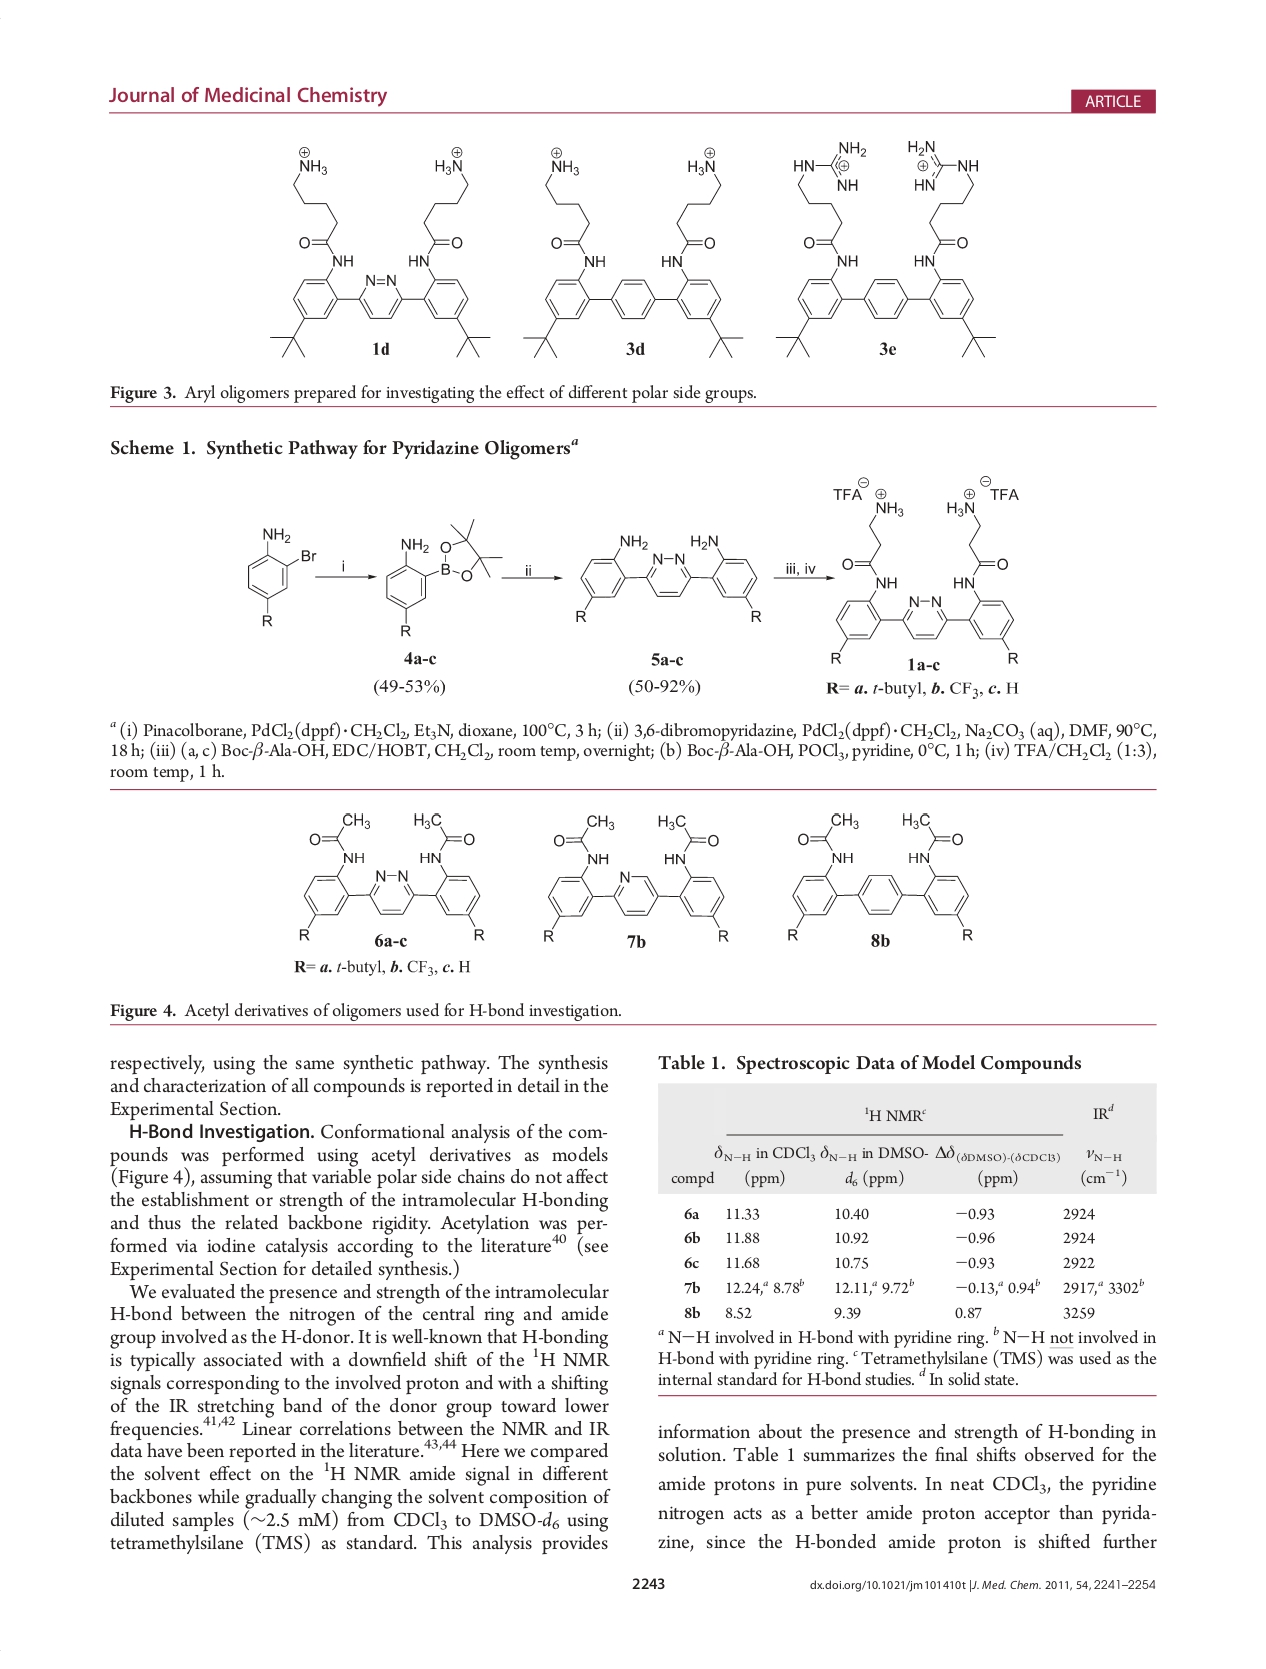exist_molecular: (774, 140, 1001, 360), (265, 144, 493, 362), (521, 145, 747, 360), (824, 473, 1027, 669), (785, 806, 977, 943), (297, 806, 485, 944), (541, 810, 731, 944), (569, 531, 763, 626), (382, 517, 503, 637), (241, 517, 318, 630)
